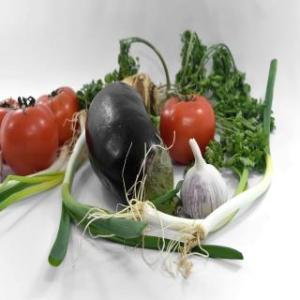eggplant: (88, 80, 183, 222)
garlic: (184, 146, 226, 226)
tomato: (1, 99, 55, 176), (160, 91, 216, 161), (40, 86, 80, 152)
